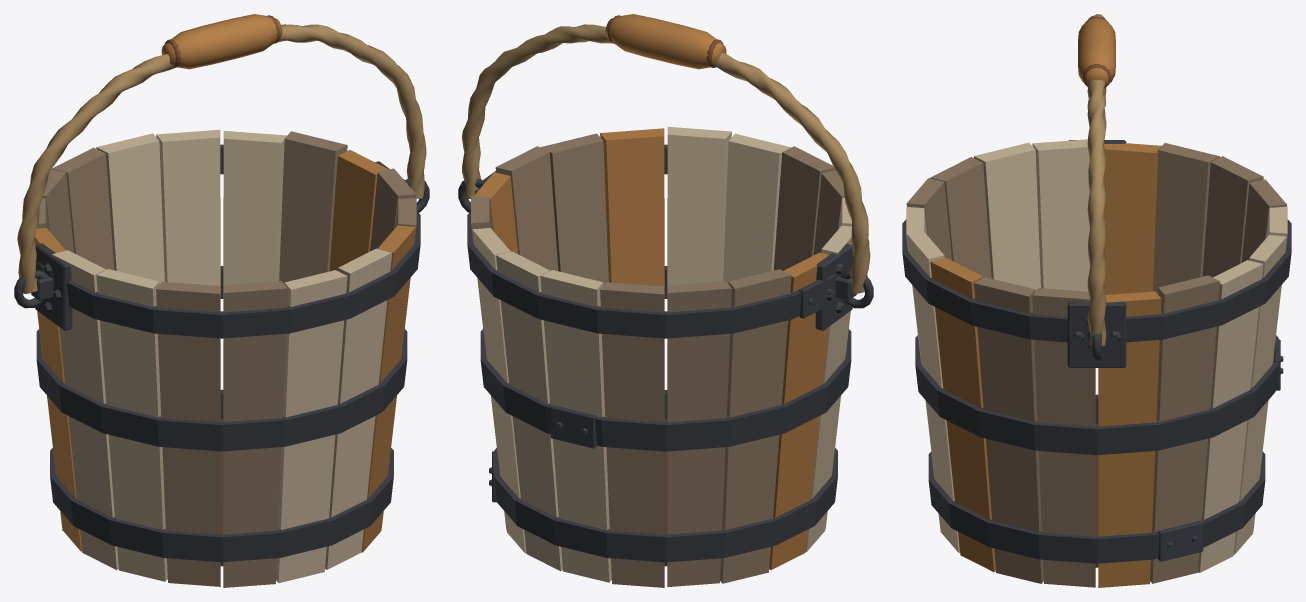
The model's file is carry_bucket_wood.fbx.
3 views of the same model, side by side, from view 1: azimuth 30°, elevation 25°; view 2: azimuth 150°, elevation 25°; view 3: azimuth 270°, elevation 25° (orthographic). The views are drawn at different scales.
Visible parts, largest first — view 1: Carry_Bucket_Wood_Body, Carry_Bucket_Wood_Hoops, Carry_Bucket_Wood_Bail, Carry_Bucket_Wood_Ears; view 2: Carry_Bucket_Wood_Body, Carry_Bucket_Wood_Hoops, Carry_Bucket_Wood_Bail, Carry_Bucket_Wood_Ears; view 3: Carry_Bucket_Wood_Body, Carry_Bucket_Wood_Hoops, Carry_Bucket_Wood_Bail, Carry_Bucket_Wood_Ears.
Part boxes in pixels (x1,y1,x2,y2): Carry_Bucket_Wood_Body: [34, 129, 416, 587]; Carry_Bucket_Wood_Hoops: [36, 144, 420, 562]; Carry_Bucket_Wood_Bail: [17, 14, 426, 293]; Carry_Bucket_Wood_Ears: [14, 161, 429, 330]; Carry_Bucket_Wood_Body: [471, 126, 852, 587]; Carry_Bucket_Wood_Hoops: [467, 144, 853, 562]; Carry_Bucket_Wood_Bail: [462, 14, 870, 293]; Carry_Bucket_Wood_Ears: [458, 171, 873, 330]; Carry_Bucket_Wood_Body: [906, 139, 1287, 587]; Carry_Bucket_Wood_Hoops: [902, 219, 1291, 563]; Carry_Bucket_Wood_Bail: [1078, 14, 1115, 345]; Carry_Bucket_Wood_Ears: [1067, 140, 1126, 367].
Bounding box in the file's own units: 56.23 × 64.35 × 46.68.
